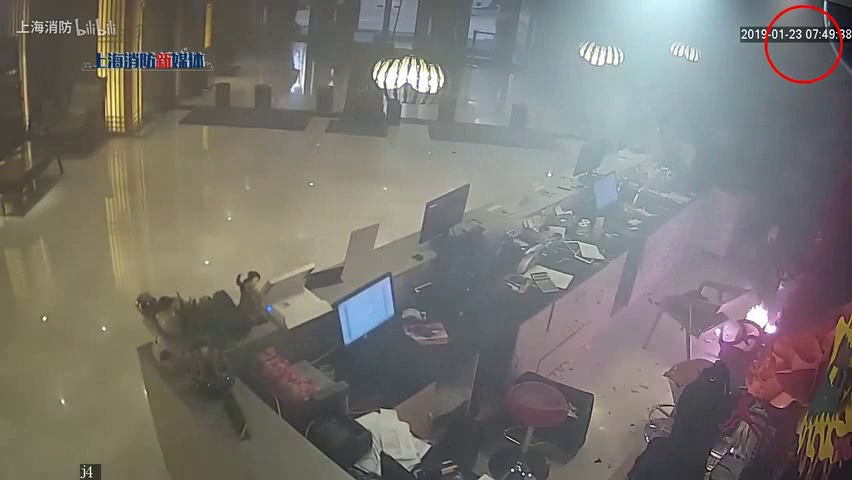fire: (744, 294, 784, 338)
